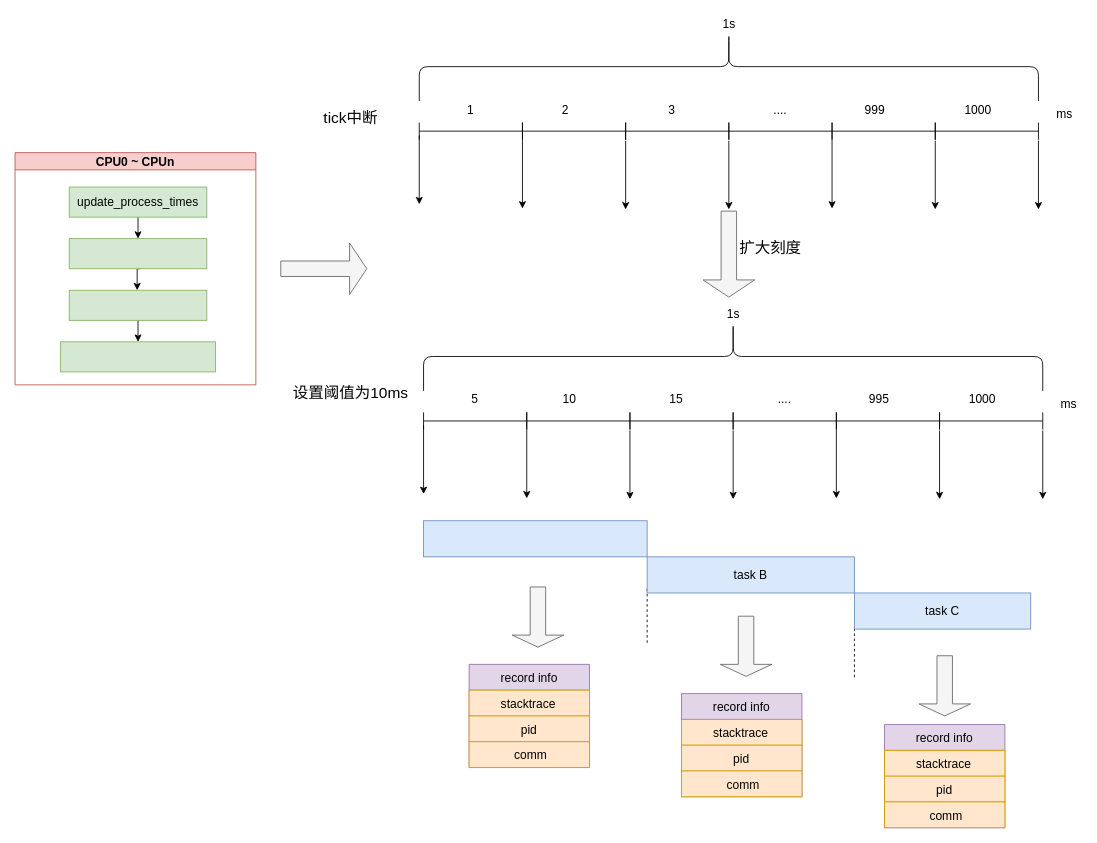
Image size: 1097x843. Some labels were removed from this diagram. The shapes that lost their labels are listed below. From the top down, each one's centre as x and y in pixels, then its label:
At point 137,253: "account_process_tick".
At point 137,304: "account_system_time".
At point 137,356: "account_system_index_time".
At point 535,538: "task A".
